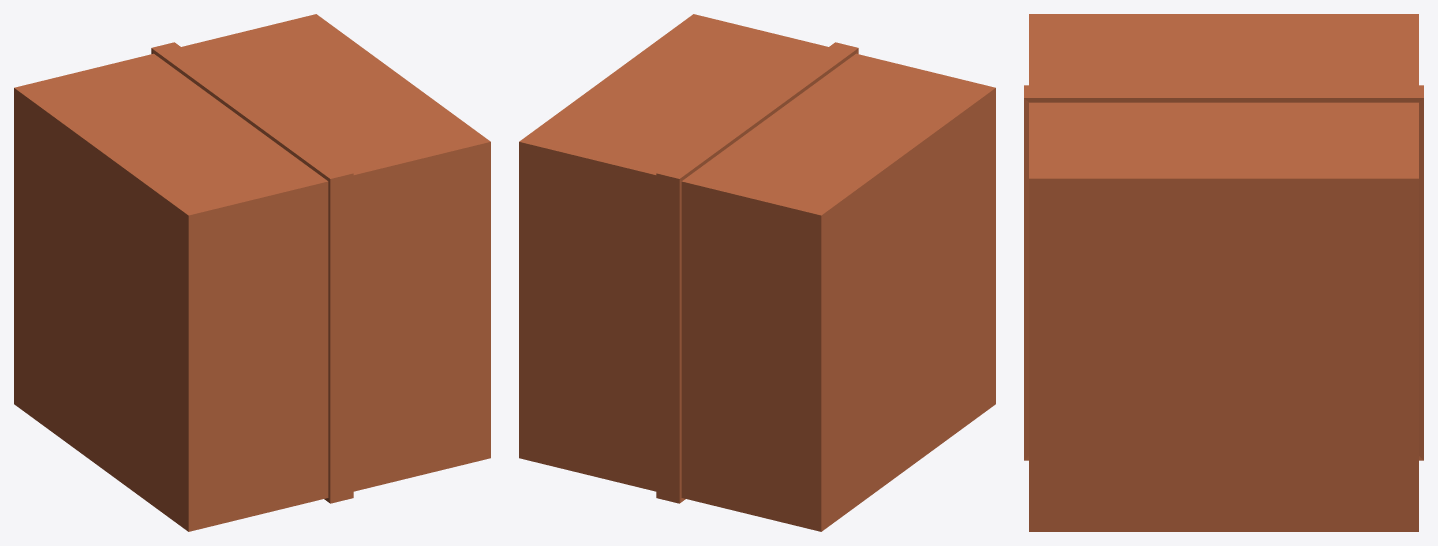
Rendered from Packing Box close.fbx.
3 renders of one model, left to right at view 1: azimuth 30°, elevation 25°; view 2: azimuth 150°, elevation 25°; view 3: azimuth 270°, elevation 25°, orthographic. The views are drawn at different scales.
Visible parts, largest first — view 1: Packing Box close; view 2: Packing Box close; view 3: Packing Box close.
Boxes of the visible parts, bbox=[...] form: Packing Box close: bbox=[14, 14, 490, 531]; Packing Box close: bbox=[519, 14, 995, 531]; Packing Box close: bbox=[1024, 14, 1423, 531].
Size of the model in its own units: 100 by 103 by 103.
